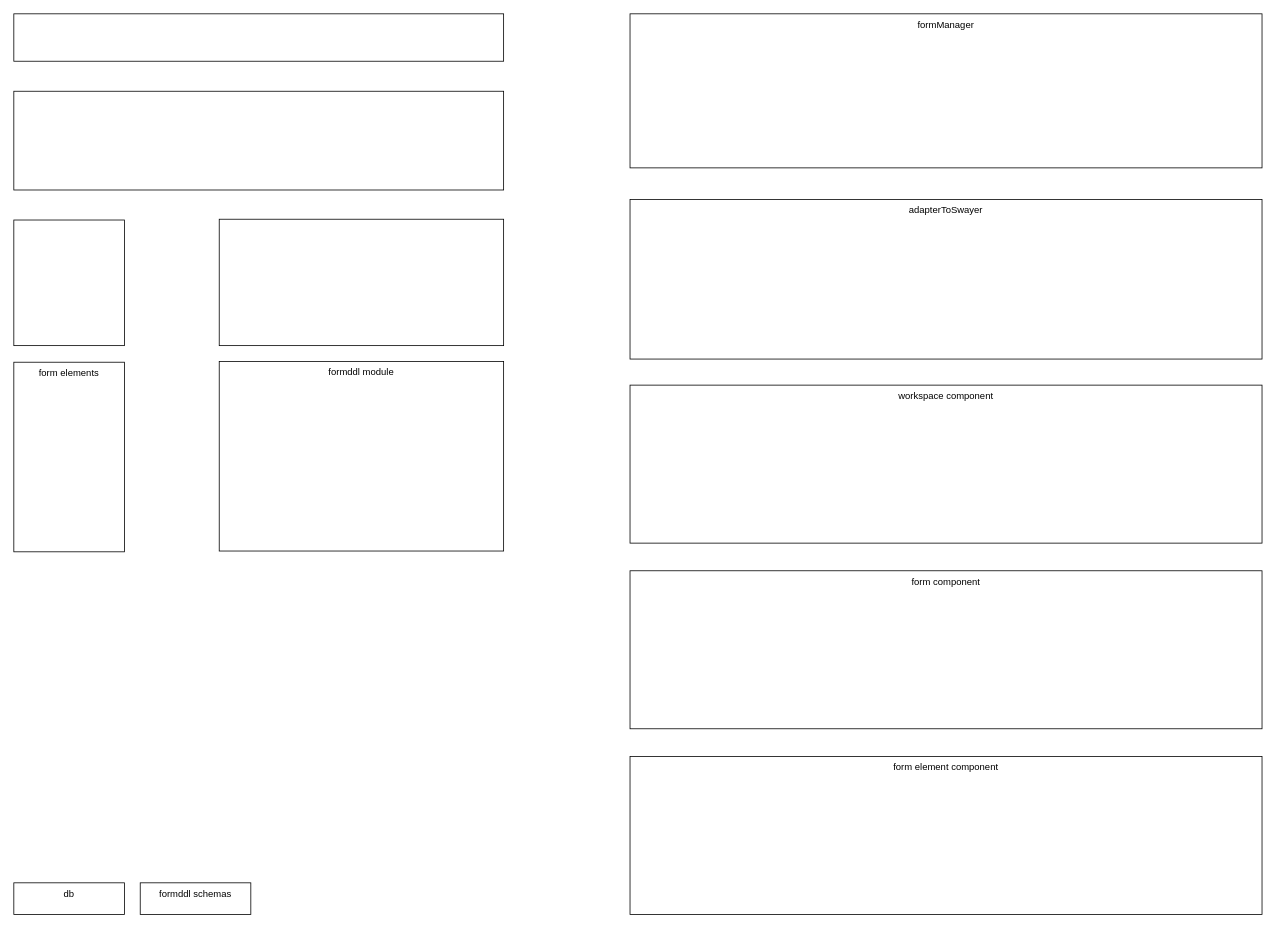
This 1276x928 diagram has some shape labels left out. Each missing label, with the box of its shape:
API: (13, 13, 504, 61)
context fomrManager: (13, 90, 504, 190)
Domain module: (218, 218, 504, 346)
form data: (13, 219, 124, 346)
